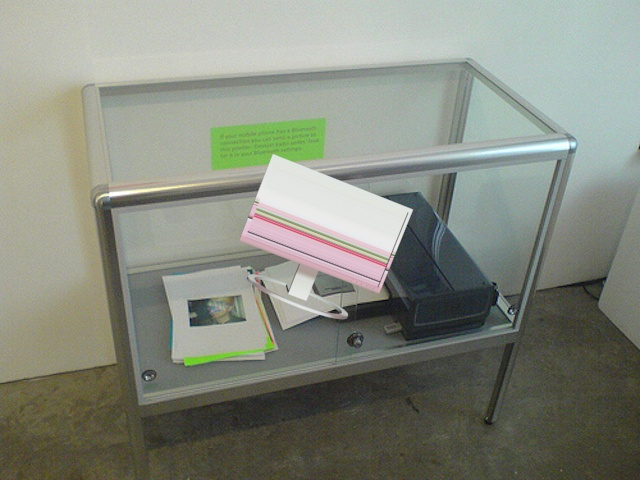monitor: (233, 145, 416, 321)
